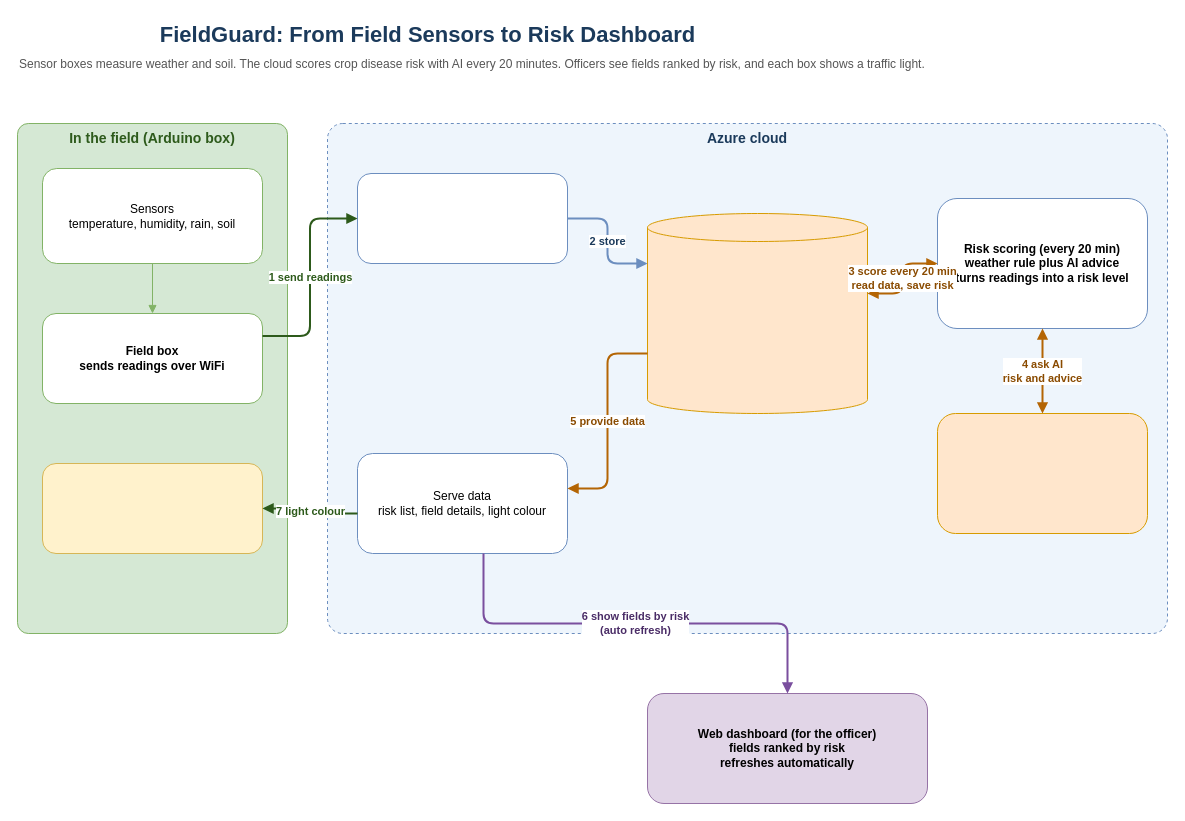
Image size: 1185x821. Some labels were removed from this diagram. The shapes that lost their labels are listed below. From the top down, each one's centre as x and y in pixels, then its label:
At (462,218): "Receive readings checks and stores each reading".
At (757,313): "Storage sensor readings and risk results".
At (1042,473): "AI (Azure OpenAI) explains the risk and suggests actions".
At (152,508): "Traffic light green, yellow, red".
